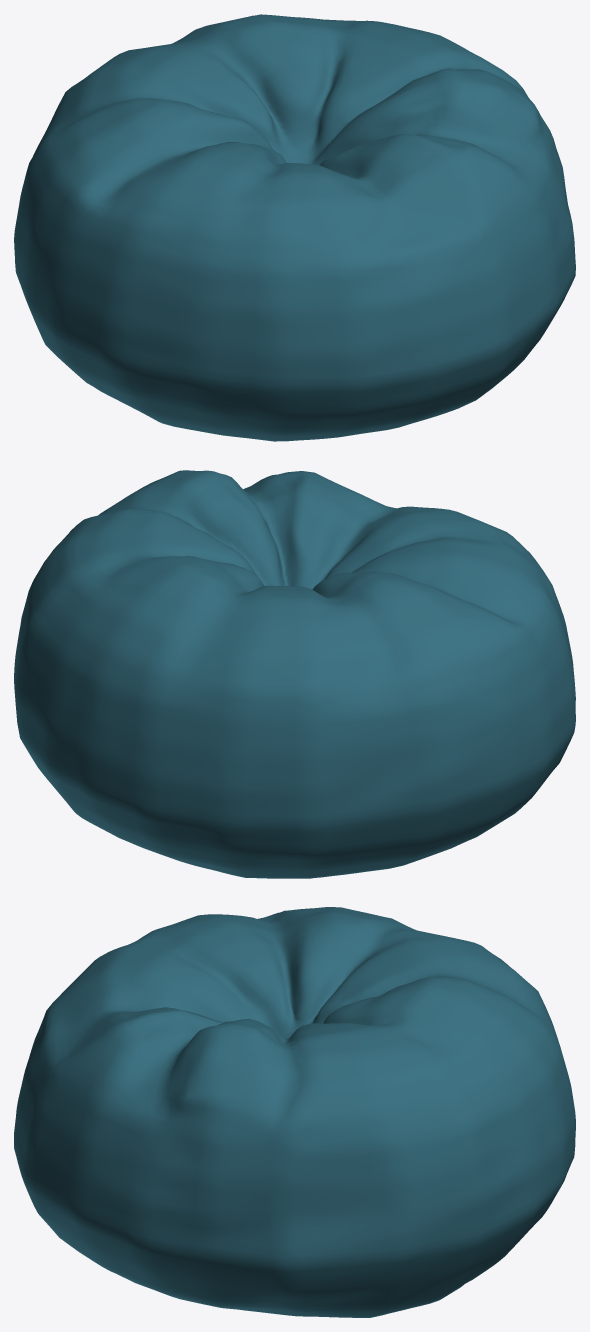
The model's file is furniture_5.glb.
The picture shows the model from 3 angles, top to bottom: view 1: azimuth 30°, elevation 25°; view 2: azimuth 150°, elevation 25°; view 3: azimuth 270°, elevation 25°; orthographic projection.
Visible parts, largest first — view 1: Mesh_0; view 2: Mesh_0; view 3: Mesh_0.
Boxes of the visible parts, x1,y1,x2,y2 form: Mesh_0: [14, 14, 575, 441]; Mesh_0: [14, 470, 575, 878]; Mesh_0: [14, 907, 575, 1317].
Bounding box in the file's own units: 2.02 × 1.06 × 2.01.
